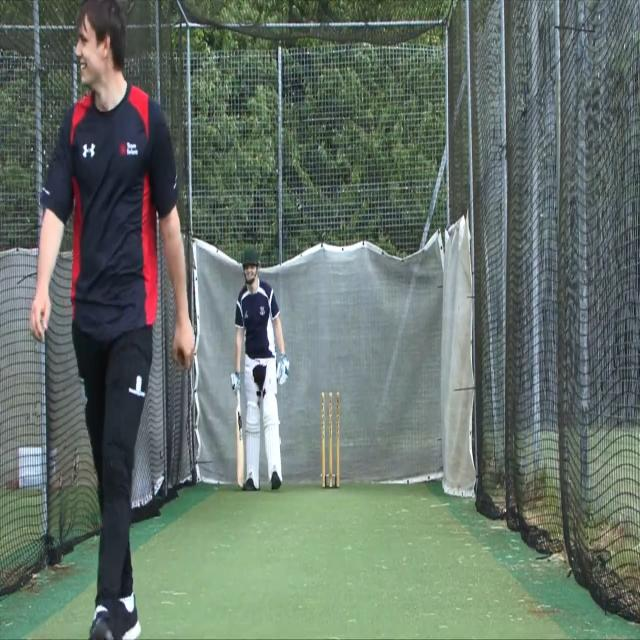batsman: (230, 246, 290, 494)
